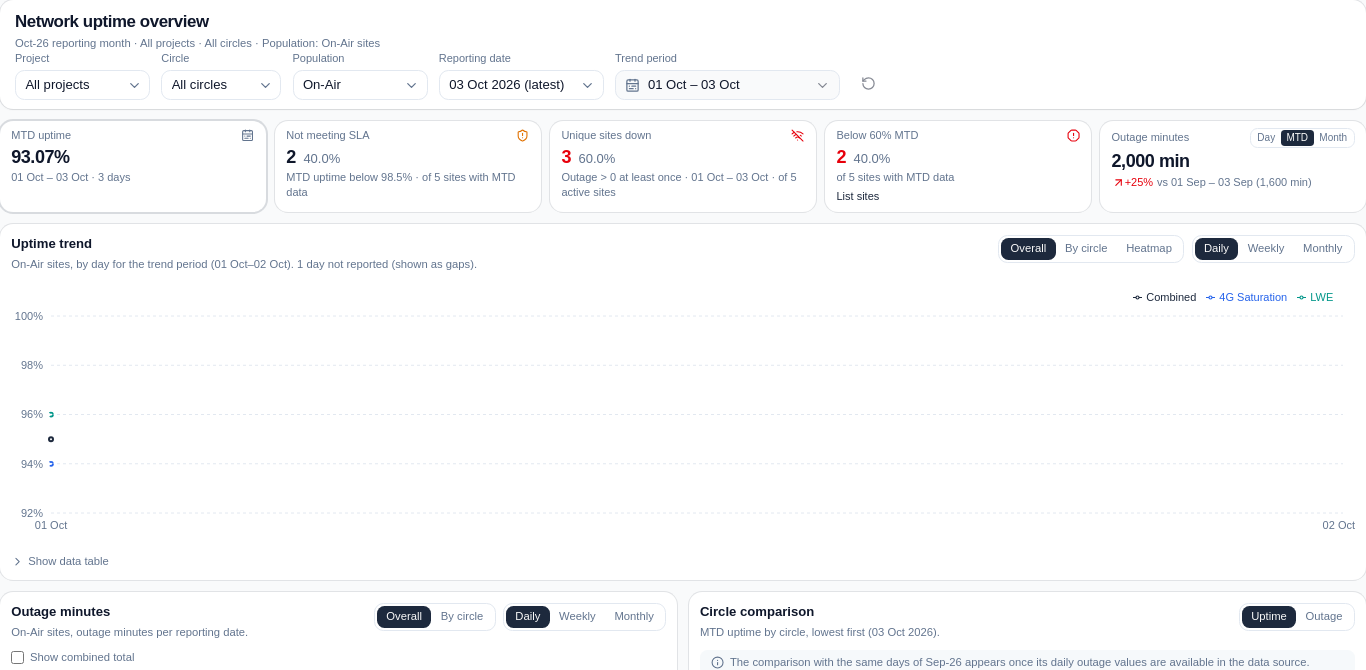
Scenario: DashboardPage › builds filter options from the API, not hardcoded values
What coordinates should you click on to do the following:
click the dropdown labelled "circle"
I would click on:
 (221, 85)
Its box is [161, 70, 281, 100].
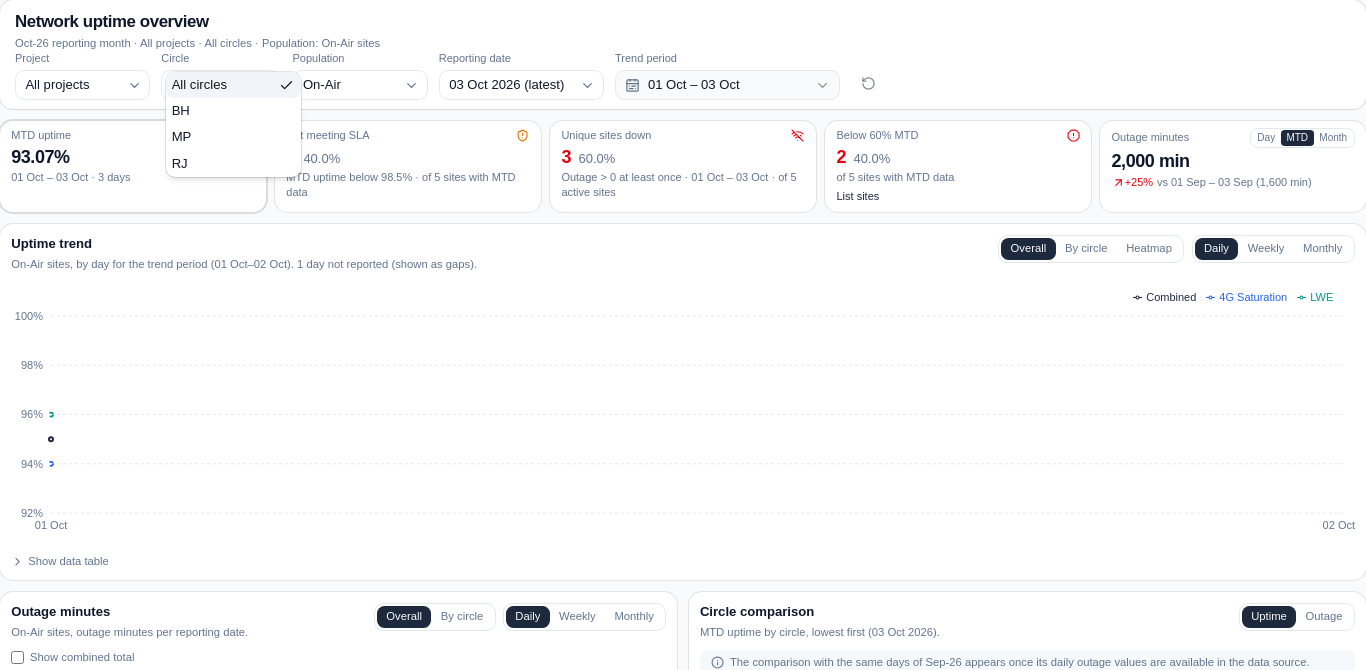
Check: the options read "All circles", "BH", "MP", "RJ", in this order, box [166, 72, 301, 98]; [172, 103, 190, 118]; [172, 129, 191, 144]; [172, 156, 188, 171]
